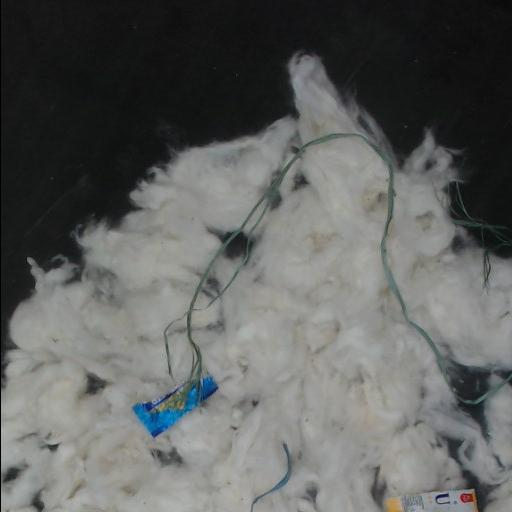conveyor belt: (1, 0, 512, 351)
cotton: (1, 53, 512, 511)
packet: (133, 376, 217, 436), (385, 489, 477, 511)
thread: (219, 133, 447, 377), (450, 181, 512, 288), (185, 257, 216, 373), (251, 466, 288, 511), (210, 272, 238, 302)
